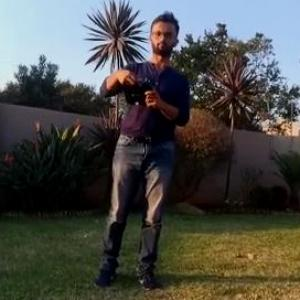follow: (85, 1, 194, 298)
